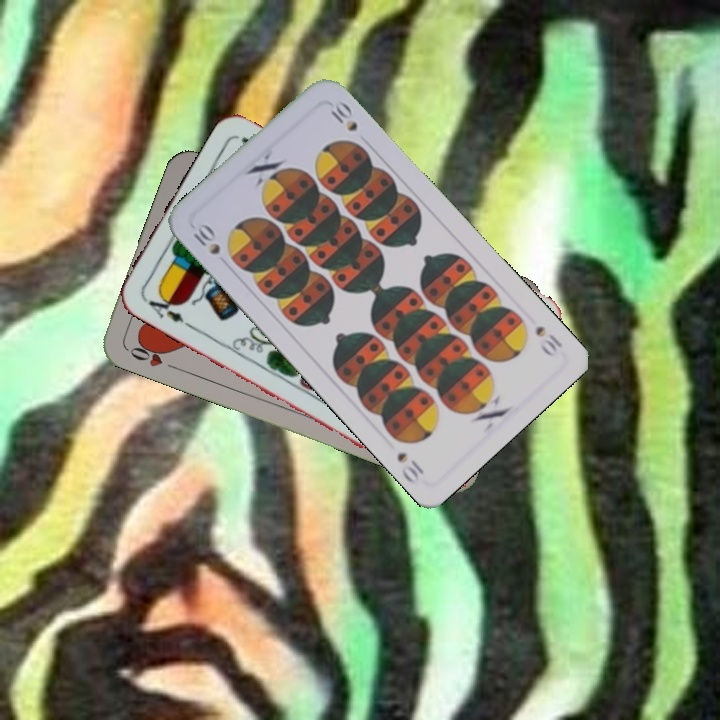EA: (140, 289, 194, 330)
HO: (123, 337, 180, 373)
S10: (531, 321, 566, 360), (189, 219, 223, 258)
